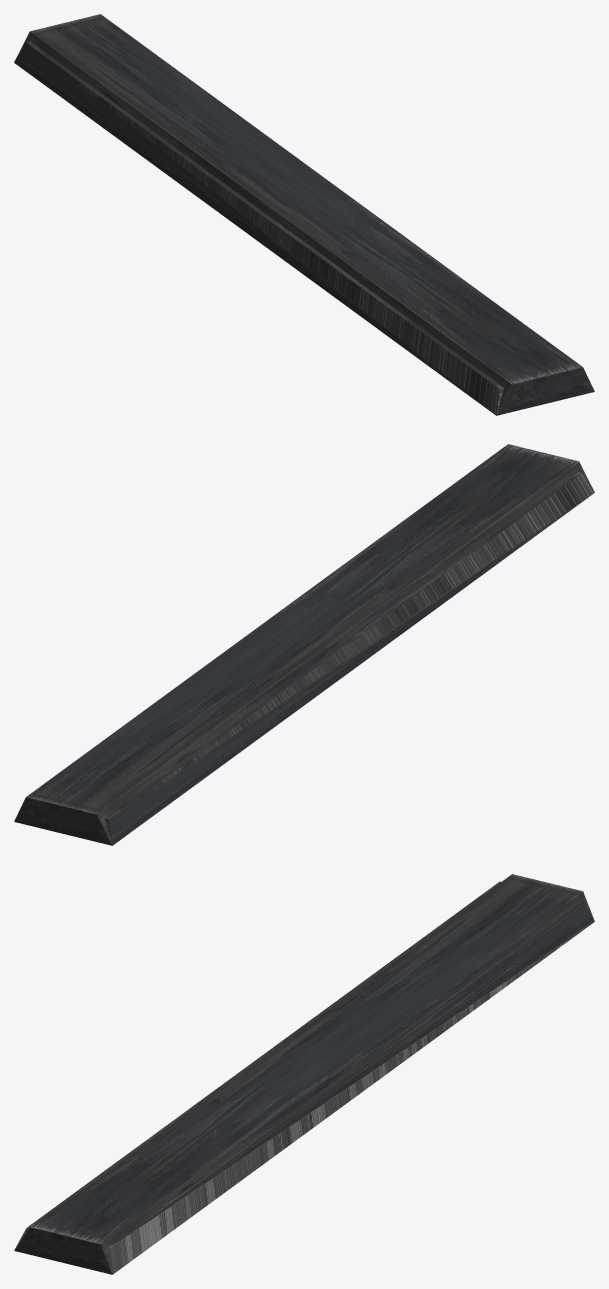
File: fluorescen_ light.FBX
3 views of the same model, one above another, from view 1: azimuth 30°, elevation 25°; view 2: azimuth 150°, elevation 25°; view 3: azimuth 330°, elevation 25° (orthographic).
Parts seen in each view (by area): view 1: Box001, side; view 2: Box001, side; view 3: Box001.
Part boxes in pixels (x1,y1,x2,y2): Box001: (26,14,594,415); side: (14,31,511,415); Box001: (14,444,582,845); side: (97,461,594,845); Box001: (14,874,594,1274).
Size of the model in its own units: 12.55 by 3.64 by 106.
2 materials, 1 textured.
